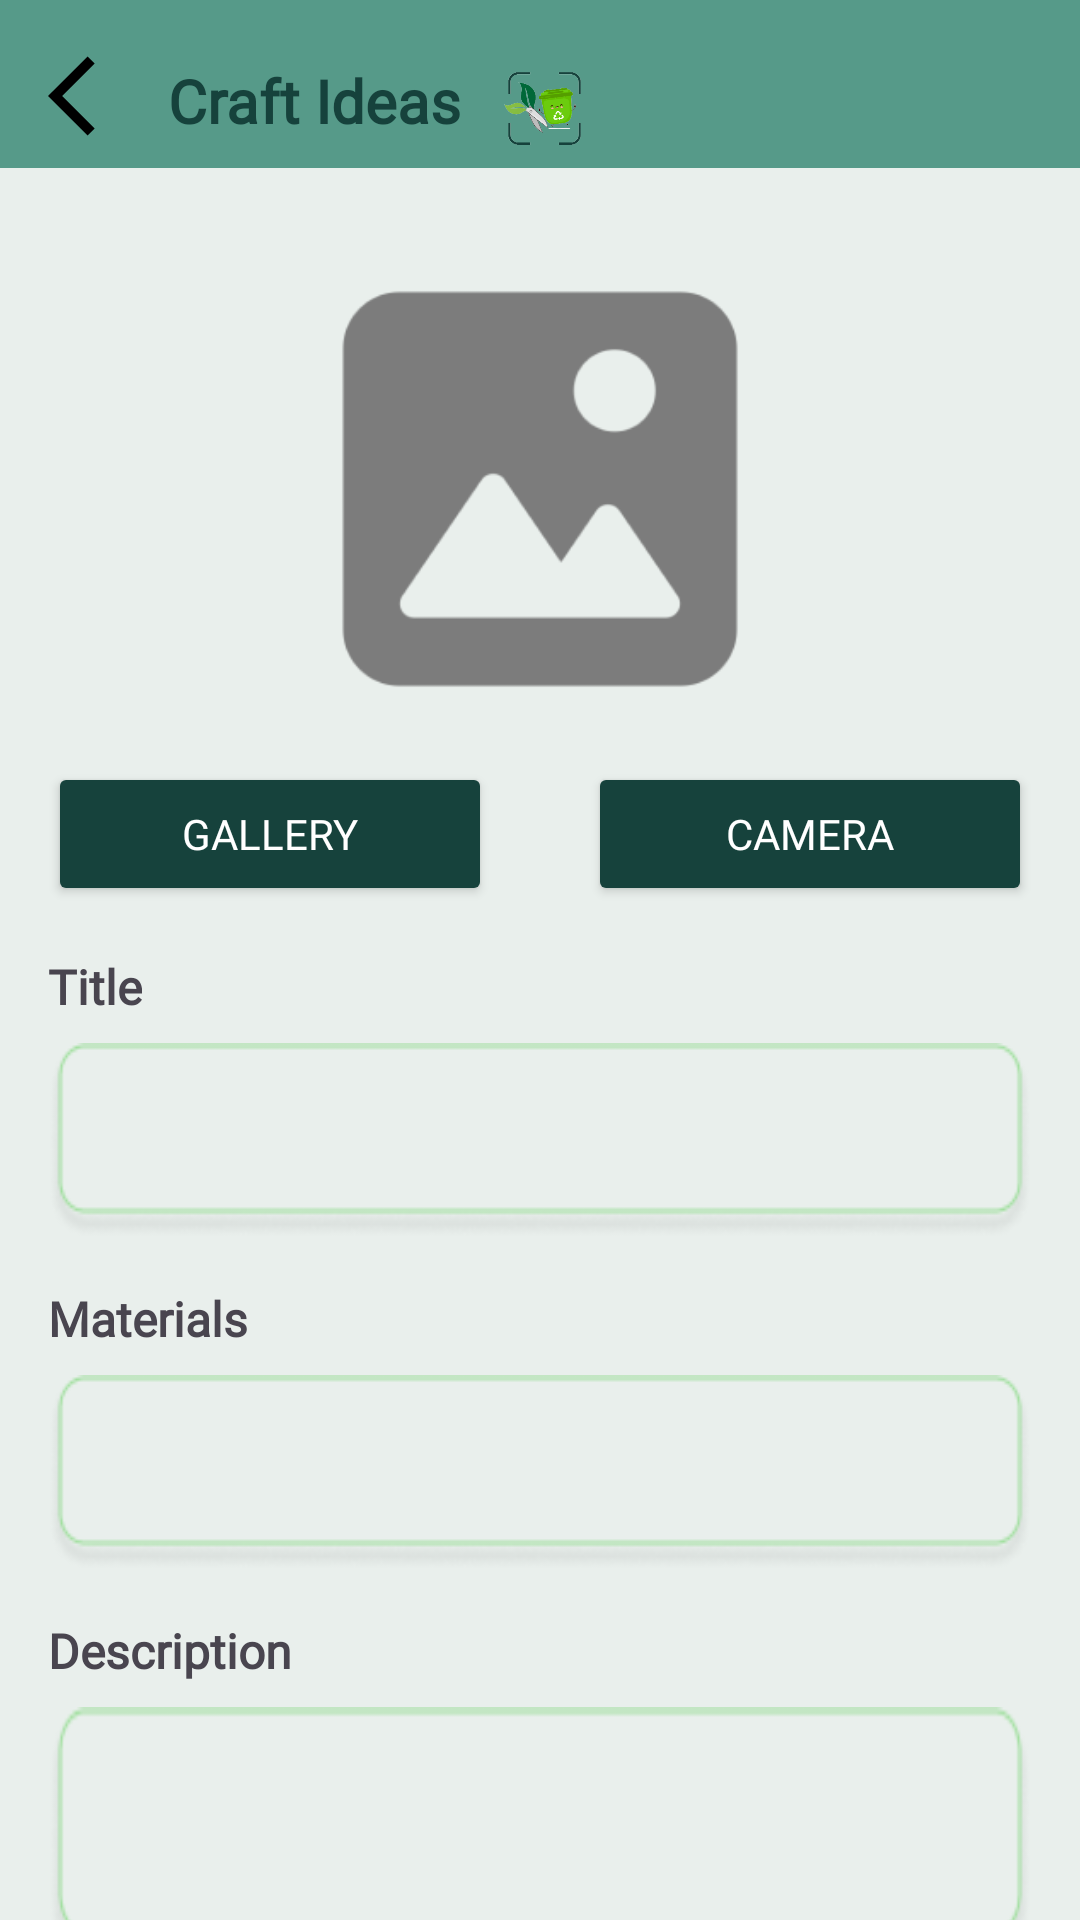

Where icons sit on this 1080w x 1920h app screen, as (x1, y1, x2, y2):
Back: (48, 56, 95, 136)
